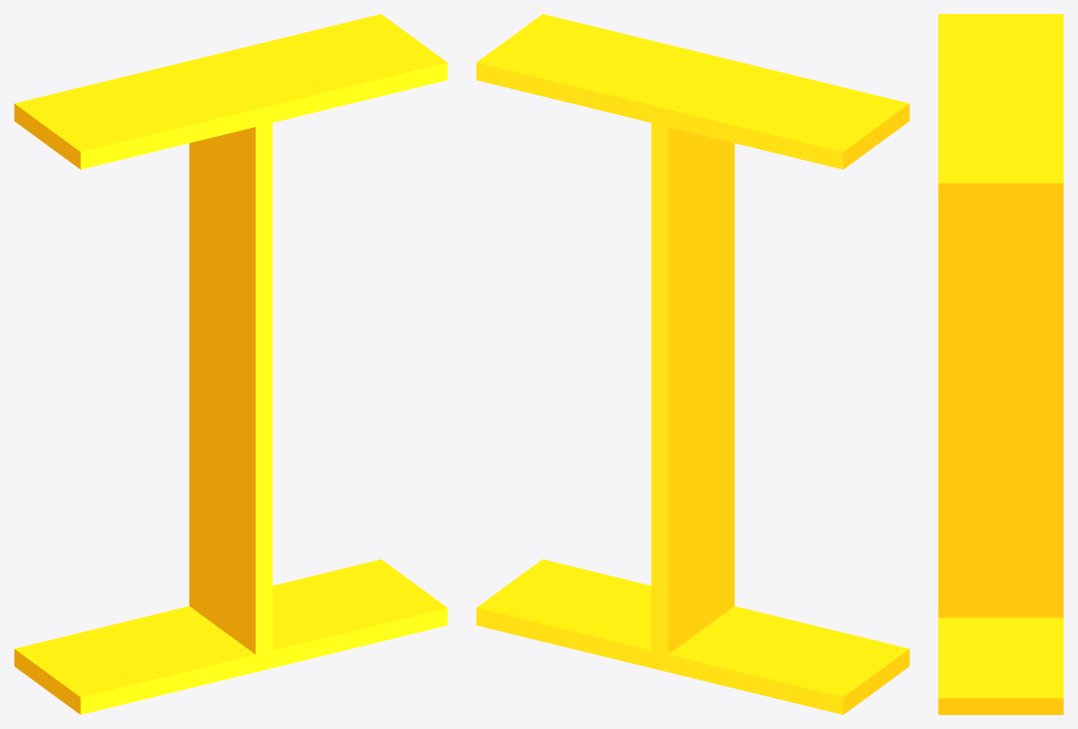
The picture shows the model from 3 angles, left to right: view 1: azimuth 30°, elevation 25°; view 2: azimuth 150°, elevation 25°; view 3: azimuth 270°, elevation 25°; orthographic projection. The views are drawn at different scales.
Visible parts, largest first — view 1: i_AlphaProta_Yellow; view 2: i_AlphaProta_Yellow; view 3: i_AlphaProta_Yellow.
Part boxes in pixels (<box>): i_AlphaProta_Yellow: <box>14,14,447,714</box>; i_AlphaProta_Yellow: <box>476,14,909,714</box>; i_AlphaProta_Yellow: <box>938,14,1063,714</box>.
Size of what is drawn, in the model's own units: 0.1436 by 0.2105 by 0.045.
2 materials, 2 textured.
